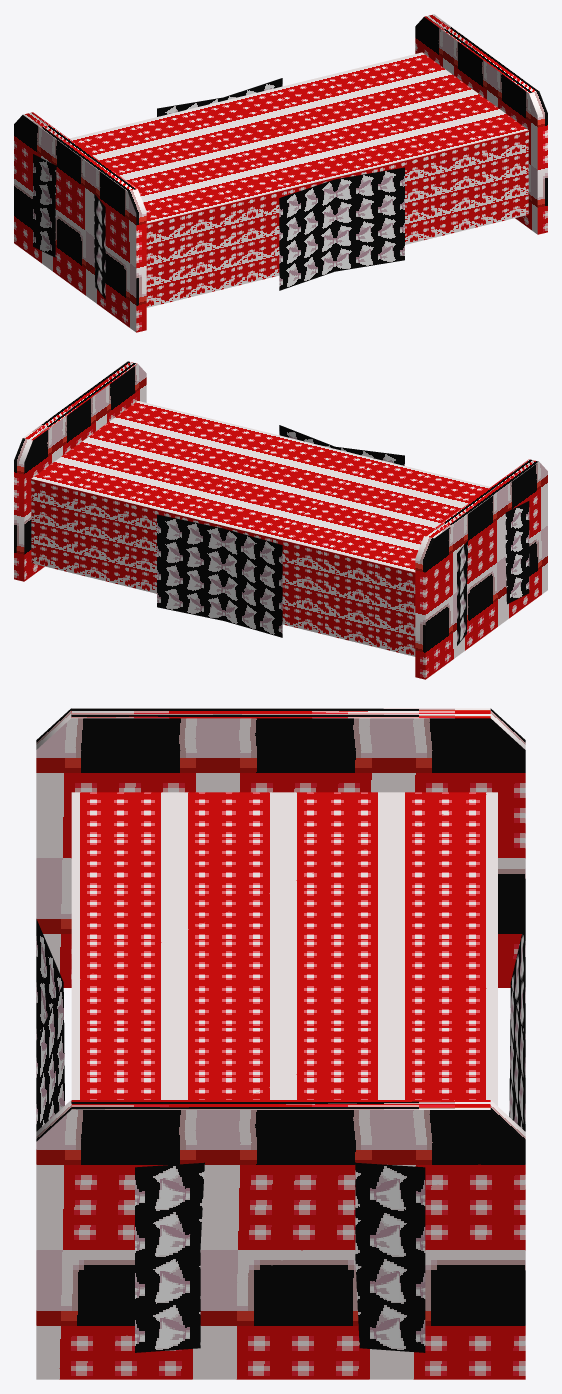
3 renders of one model, top to bottom at view 1: azimuth 30°, elevation 25°; view 2: azimuth 150°, elevation 25°; view 3: azimuth 270°, elevation 25°, orthographic. The views are drawn at different scales.
Visible parts, largest first — view 1: 3927kg3_dl09; view 2: 3927kg3_dl09; view 3: 3927kg3_dl09.
Part boxes in pixels (x1,y1,x2,y2): 3927kg3_dl09: (14, 14, 547, 332); 3927kg3_dl09: (14, 361, 547, 679); 3927kg3_dl09: (36, 708, 525, 1379).
Size of the model in its own units: 2 by 0.6082 by 1.
4 materials, 4 textured.
